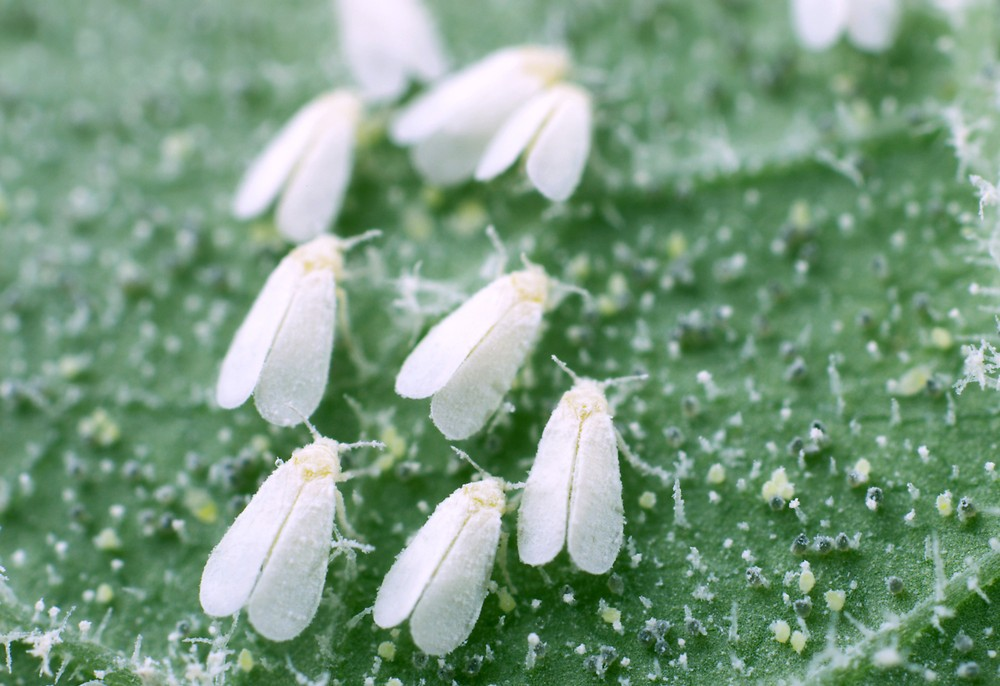Mosca Blanca: (384, 234, 583, 443), (195, 429, 385, 641), (512, 351, 666, 592), (216, 230, 379, 429), (367, 449, 526, 651), (230, 70, 398, 229), (396, 37, 564, 191), (478, 69, 608, 224)
